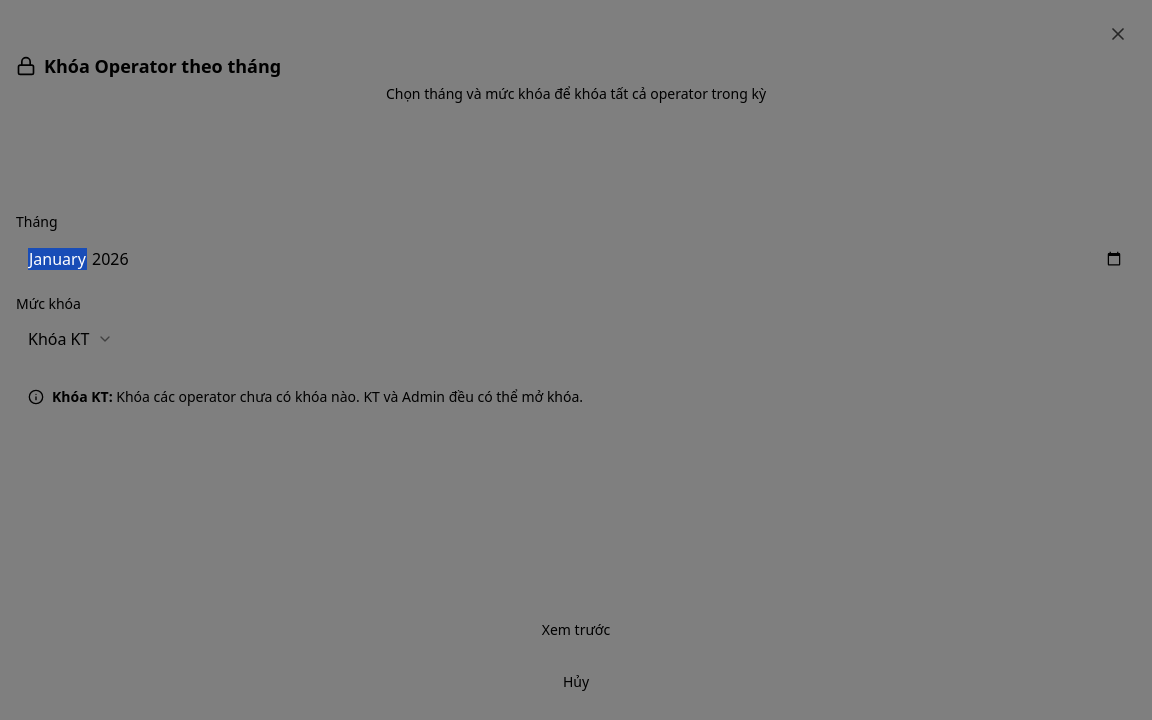
Test: OperatorLockDialog › Role-based Tiers › shows all 3 tiers for ADMIN role
# Open select dropdown
Click the dropdown named "Mức khóa": click(71, 339) left=16, top=319, right=125, bottom=359
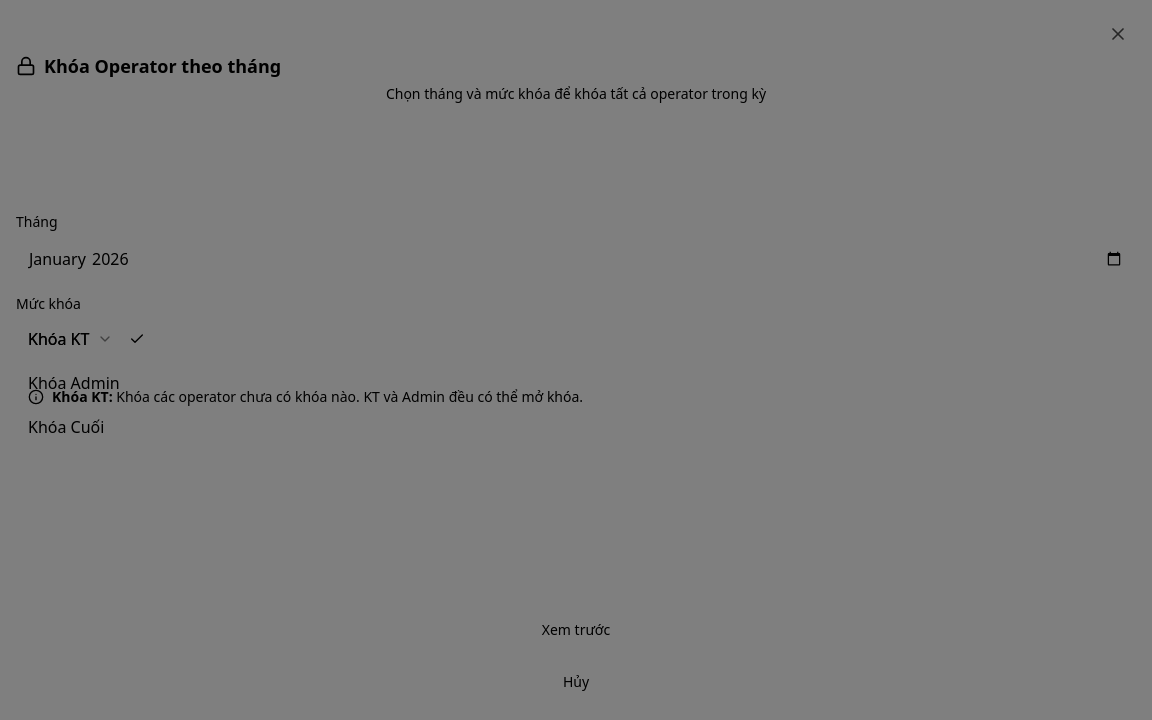
Expected: the number of options is 3, left=28, top=328, right=145, bottom=350; left=28, top=372, right=120, bottom=394; left=28, top=416, right=104, bottom=438
Expected: the option "Khóa KT" is shown, left=28, top=328, right=145, bottom=350
Expected: the option "Khóa Admin" is shown, left=28, top=372, right=120, bottom=394
